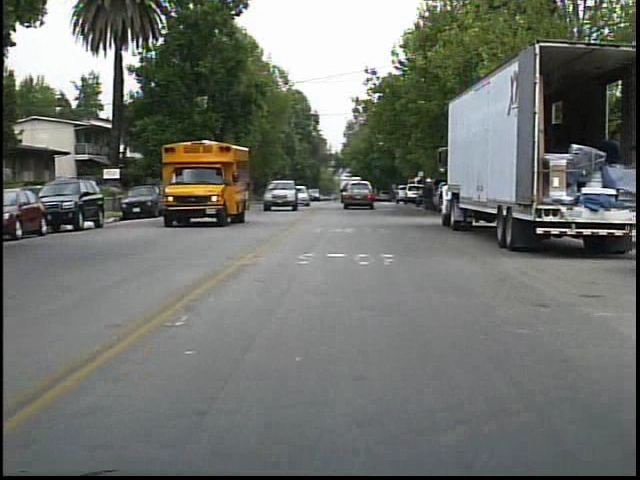person: (415, 173, 439, 221)
